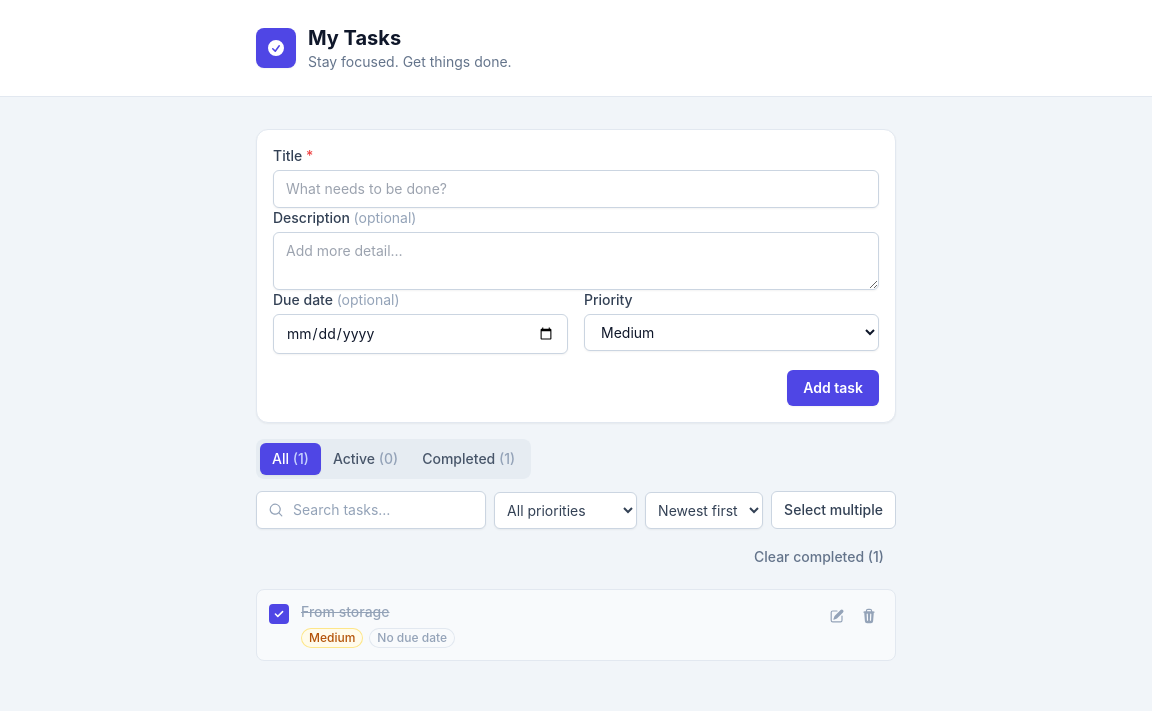
Test case: App › allows a title that only exists on a completed task
Type "From storage" into the field labelled "Title *". click: coordinates (576, 189)
box: [273,170,879,208]
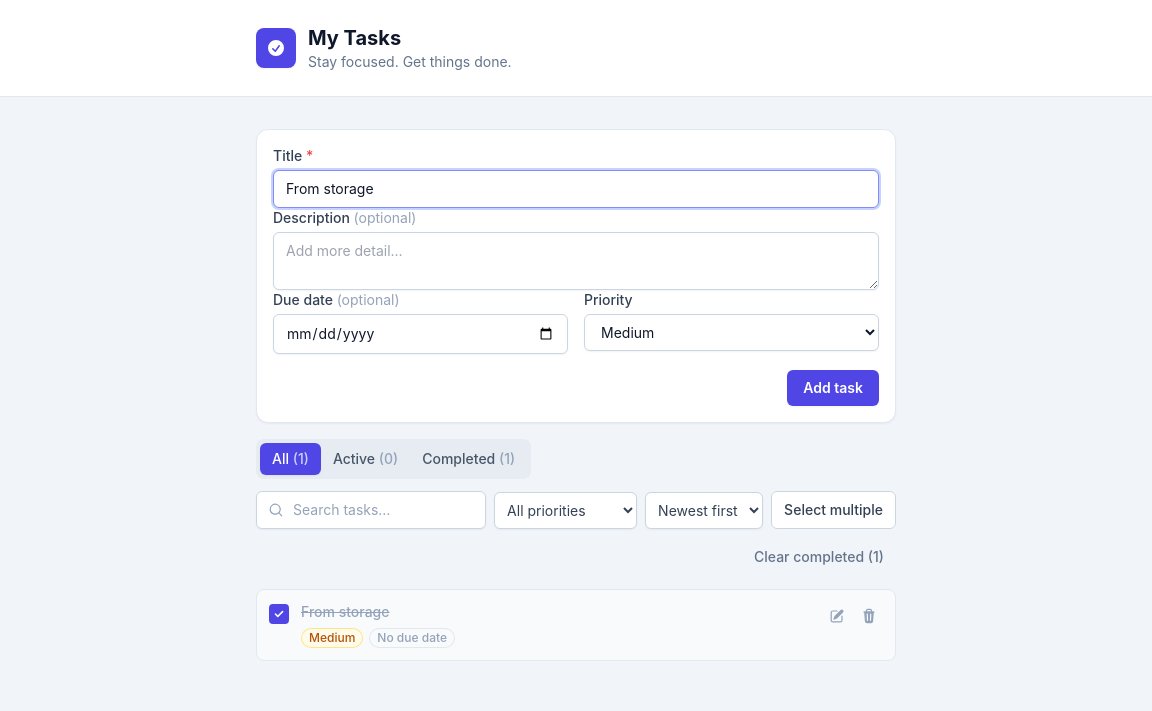
Click the button "Add task". click: coordinates (833, 388)
box: [787,370,879,406]
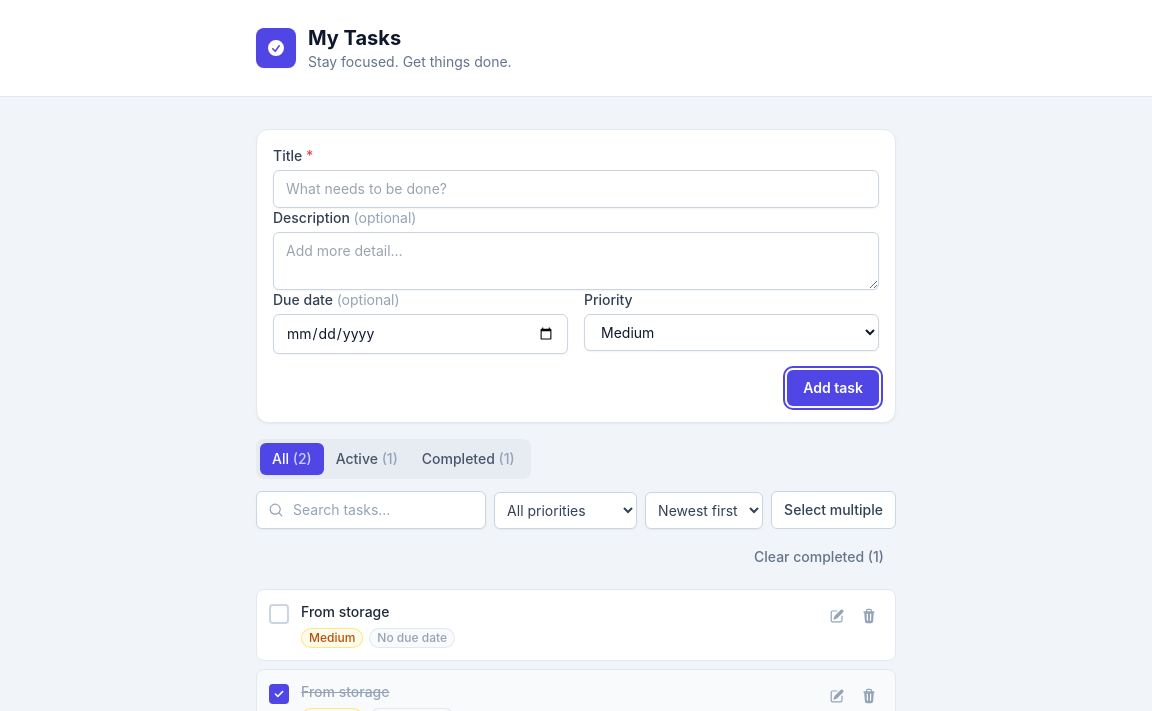
Check: the text "From storage" is shown 2 times, box [301,603,390,620]; [301,683,390,700]
